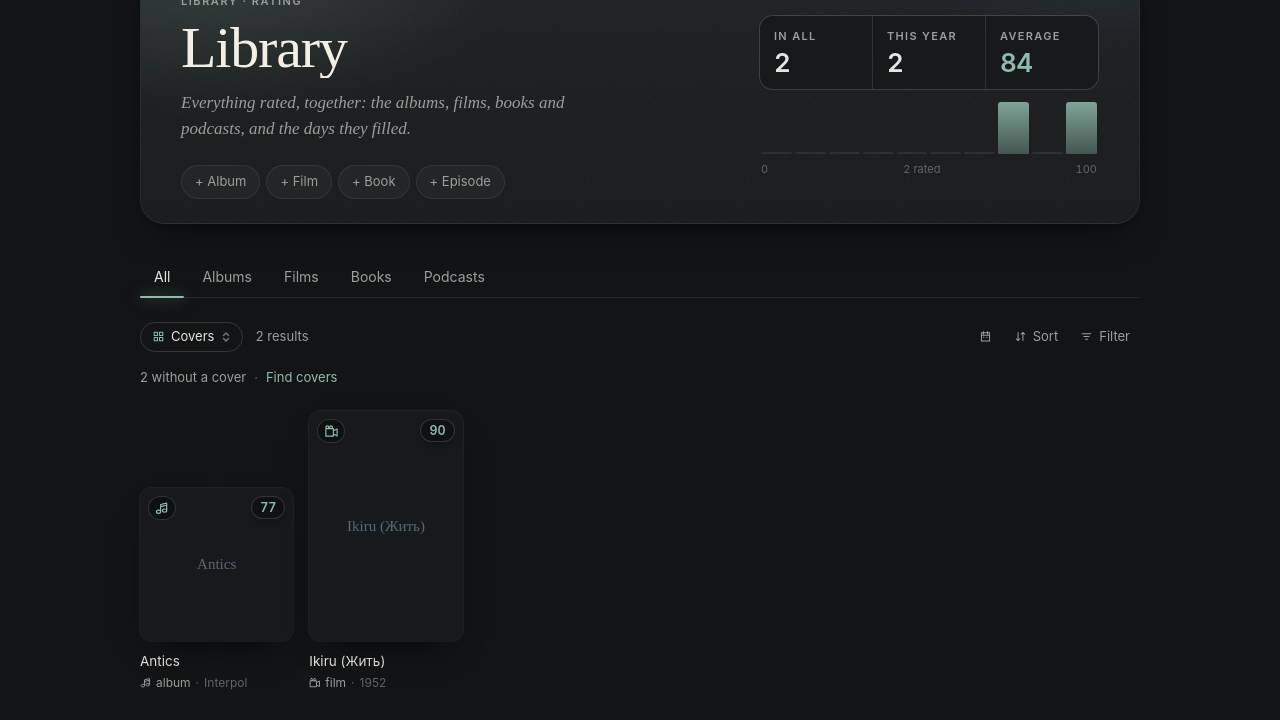
Test case: explains a failed album search, keeps film search working, and lets the album be retried
The width and height of the screenshot is (1280, 720).
Step 1. Click the button with test id "find-covers-open" → [302, 378], box [266,368,337,387]
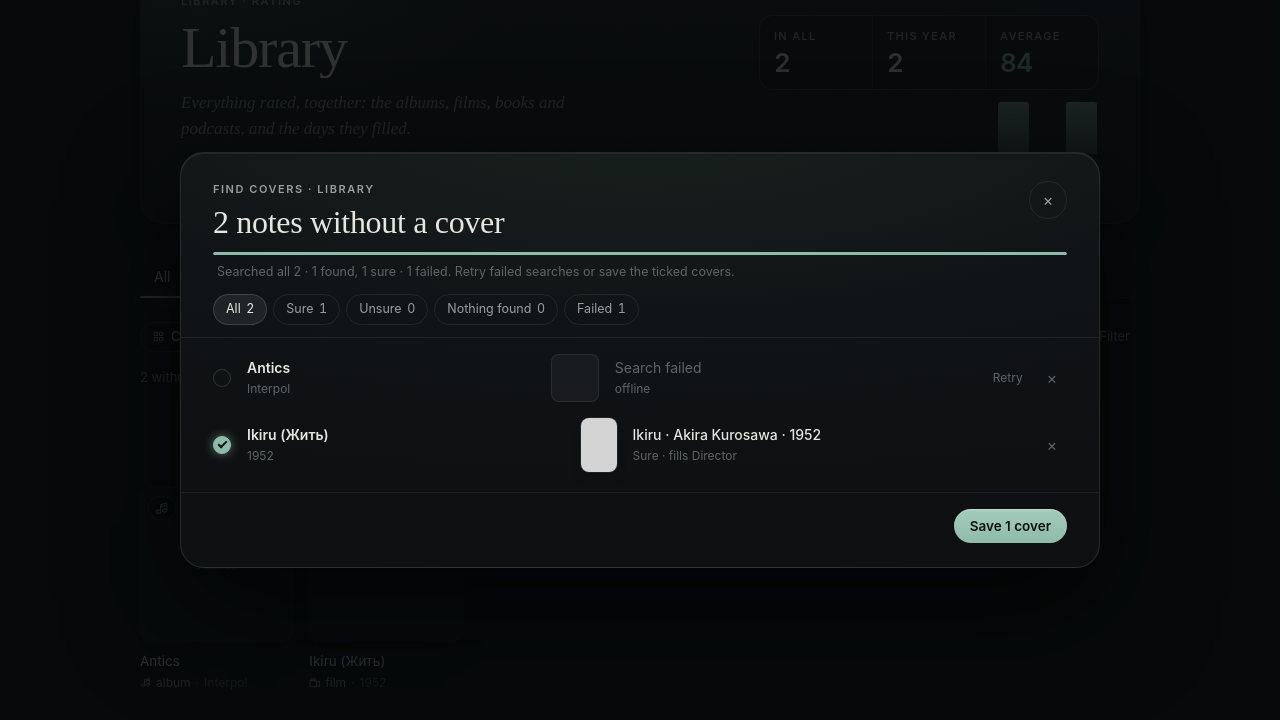
Expected: the list item with test id "covers-row" shows "Search failed", [615,360,702,376]
Expected: the list item with test id "covers-row" shows "offline", [615,382,650,396]
Expected: the text with test id "covers-hint" shows "1 failed", [217,264,735,280]
Step 2. Click the button with aria-label "Retry Antics" → [1008, 378], box [983,365,1033,391]
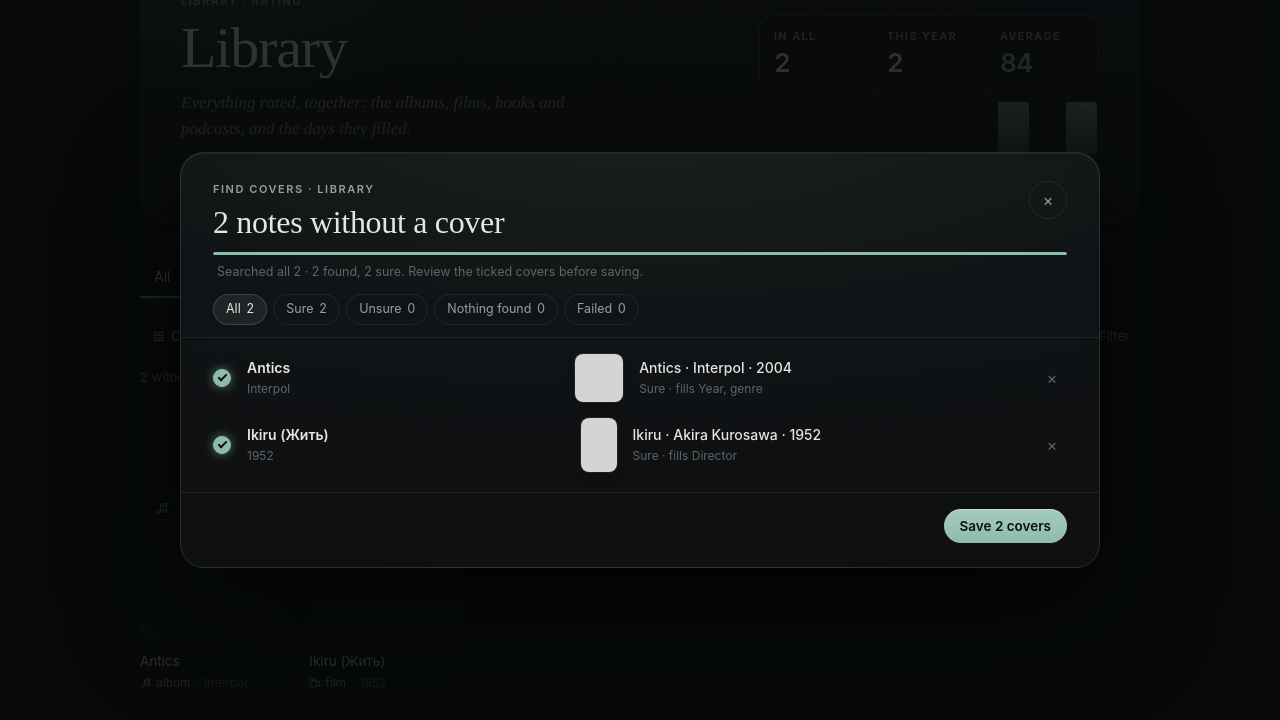
Expected: the list item with test id "covers-row" shows "Antics · Interpol · 2004", [639,360,792,376]
